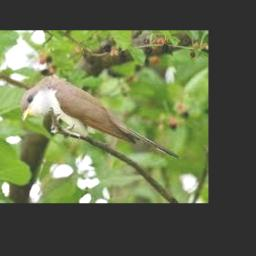Cuckoo: (22, 75, 179, 158)
